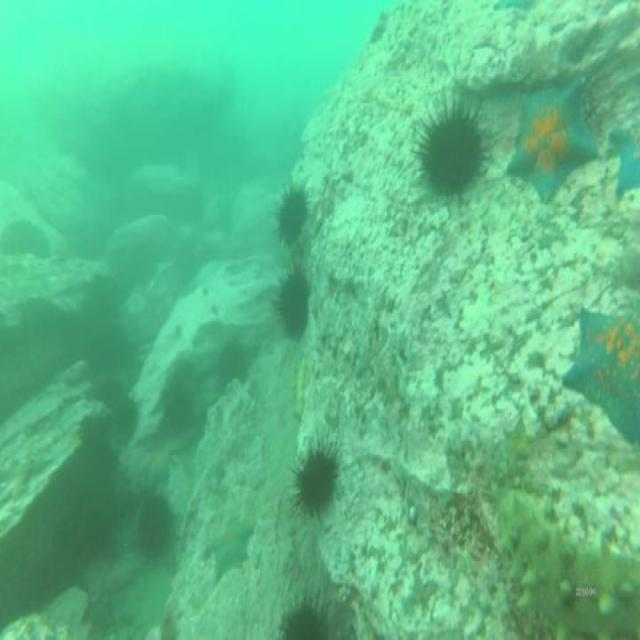echinus: (412, 87, 492, 204), (290, 433, 341, 523), (271, 267, 313, 341), (134, 490, 174, 567), (271, 177, 310, 251), (277, 591, 335, 640), (163, 379, 196, 438), (216, 338, 249, 386), (78, 409, 109, 458), (110, 393, 142, 438), (365, 14, 387, 49)
holothurian: (491, 483, 640, 640), (290, 350, 308, 420)
starfish: (508, 76, 602, 207), (559, 302, 640, 450), (202, 515, 257, 583), (607, 117, 640, 205)
